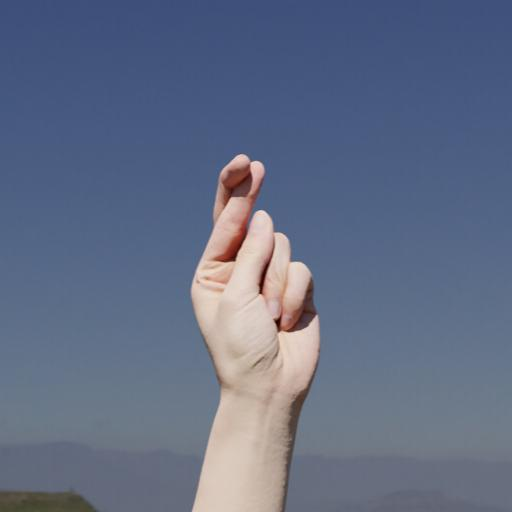R: (183, 146, 336, 415)
